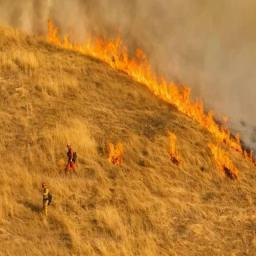Low smoke: (0, 0, 255, 156)
Small fire: (0, 14, 255, 174)
